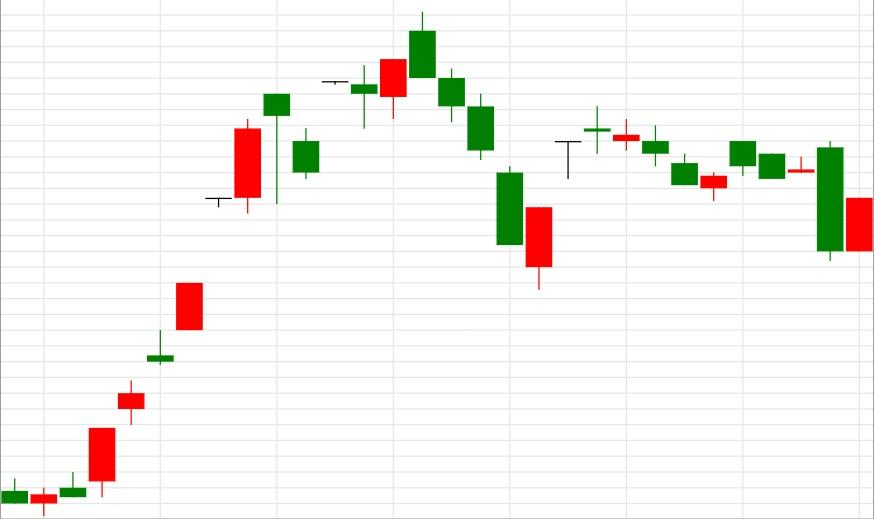hanging_man_fall: (29, 93, 291, 516)
three_black_crows_fall: (292, 11, 494, 179)
